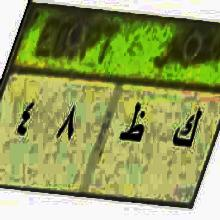4: (12, 88, 36, 152)
8: (52, 90, 83, 152)
Thaa: (119, 88, 148, 155)
kaaf: (166, 95, 206, 164)
